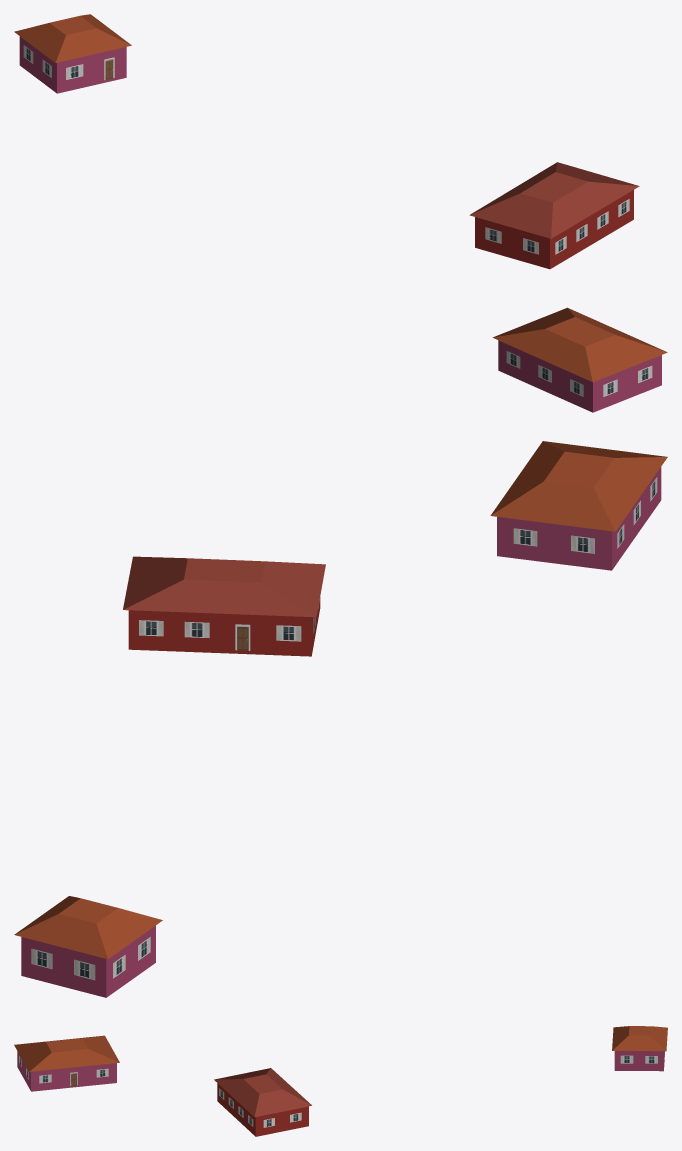
File: msb_oranjestad_m9_m4.glb
3 views of the same model, one above another, from view 1: azimuth 30°, elevation 25°; view 2: azimuth 150°, elevation 25°; view 3: azimuth 270°, elevation 25° (orthographic). The views are drawn at different scales.
Visible parts, largest first — view 1: msb_oranjestad_m9_m4_lod0; view 2: msb_oranjestad_m9_m4_lod0; view 3: msb_oranjestad_m9_m4_lod0.
Part boxes in pixels (x1,y1,x2,y2): msb_oranjestad_m9_m4_lod0: (14,14,667,412); msb_oranjestad_m9_m4_lod0: (14,441,667,997); msb_oranjestad_m9_m4_lod0: (14,1026,667,1136).
Size of what is drawn, in the model's own units: 33.84 by 5.74 by 98.39.
2 materials, 1 textured.
